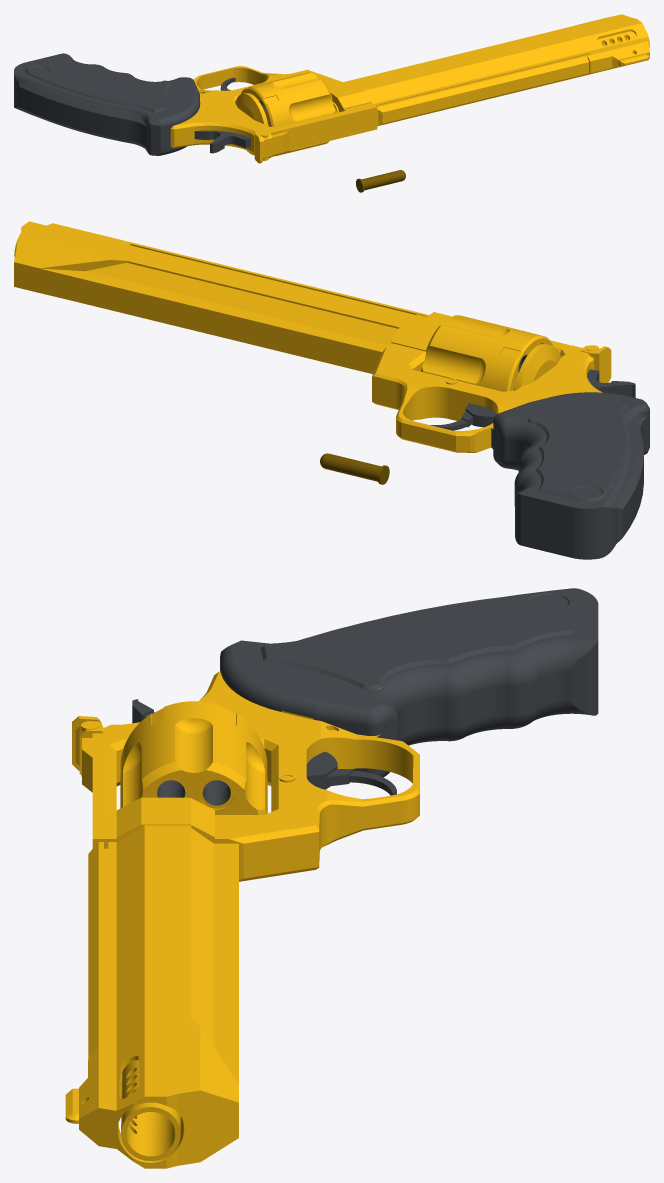
File: gun.obj
The picture shows the model from 3 angles, top to bottom: view 1: azimuth 30°, elevation 25°; view 2: azimuth 150°, elevation 25°; view 3: azimuth 270°, elevation 25°; orthographic projection. The views are drawn at different scales.
Parts seen in each view (by area): view 1: mesh389, mesh368, mesh323, mesh457, mesh341, mesh284, mesh161, mesh59, mesh339, mesh338, mesh310, mesh286 (+22 smaller); view 2: mesh367, mesh368, mesh323, mesh372, mesh457, mesh59, mesh371, mesh292, mesh291, mesh310, mesh366, mesh51 (+18 smaller); view 3: mesh368, mesh323, mesh457, mesh389, mesh371, mesh59, mesh372, mesh338, mesh310, mesh359, mesh237, mesh228 (+25 smaller).
Boxes of the visible parts, x1=… form: mesh389: x1=365, y1=23, x2=646, y2=103; mesh368: x1=353, y1=14, x2=641, y2=90; mesh323: x1=27, y1=58, x2=169, y2=110; mesh457: x1=174, y1=69, x2=376, y2=133; mesh341: x1=382, y1=62, x2=589, y2=123; mesh284: x1=19, y1=87, x2=125, y2=139; mesh161: x1=270, y1=107, x2=377, y2=151; mesh59: x1=250, y1=72, x2=334, y2=156; mesh339: x1=377, y1=41, x2=647, y2=112; mesh338: x1=373, y1=37, x2=647, y2=106; mesh310: x1=141, y1=78, x2=192, y2=119; mesh286: x1=19, y1=81, x2=127, y2=119; mesh367: x1=14, y1=262, x2=381, y2=373; mesh368: x1=19, y1=221, x2=414, y2=327; mesh323: x1=530, y1=401, x2=623, y2=498; mesh372: x1=86, y1=262, x2=398, y2=344; mesh457: x1=376, y1=312, x2=602, y2=408; mesh59: x1=423, y1=315, x2=541, y2=391; mesh371: x1=41, y1=268, x2=387, y2=351; mesh292: x1=521, y1=495, x2=571, y2=557; mesh291: x1=571, y1=507, x2=617, y2=559; mesh310: x1=503, y1=393, x2=643, y2=419; mesh366: x1=14, y1=238, x2=109, y2=268; mesh51: x1=422, y1=346, x2=480, y2=383; mesh368: x1=144, y1=825, x2=200, y2=1096; mesh323: x1=264, y1=592, x2=571, y2=685; mesh457: x1=92, y1=671, x2=327, y2=838; mesh389: x1=116, y1=825, x2=144, y2=1110; mesh371: x1=214, y1=843, x2=238, y2=1084; mesh59: x1=120, y1=701, x2=267, y2=813; mesh372: x1=191, y1=828, x2=213, y2=1046; mesh338: x1=98, y1=842, x2=116, y2=1110; mesh310: x1=234, y1=641, x2=376, y2=707; mesh359: x1=178, y1=1090, x2=238, y2=1165; mesh237: x1=306, y1=737, x2=413, y2=783; mesh228: x1=243, y1=832, x2=319, y2=878.
Bounding box in the file's own units: 0.4841 × 0.1132 × 0.2121.
